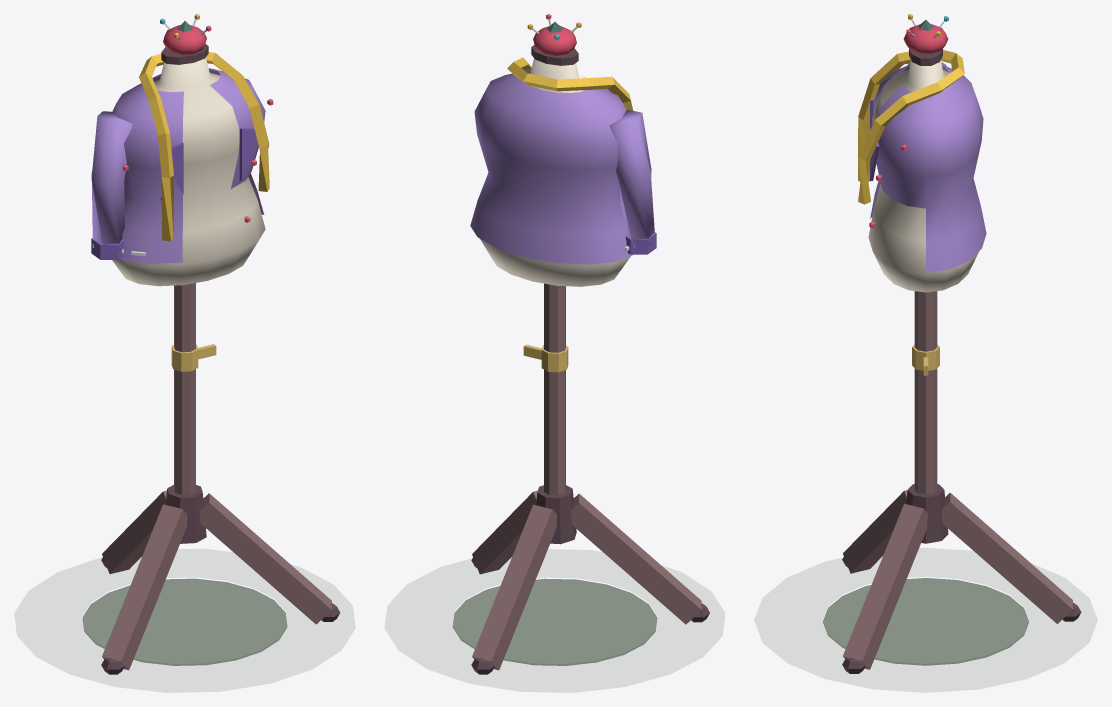
The model's file is dress_form.glb.
The picture shows the model from 3 angles, left to right: view 1: azimuth 30°, elevation 25°; view 2: azimuth 150°, elevation 25°; view 3: azimuth 270°, elevation 25°; orthographic projection.
Parts seen in each view (by area): view 1: dress_form; view 2: dress_form; view 3: dress_form.
Boxes of the visible parts, x1=… form: dress_form: x1=82, y1=14, x2=340, y2=674; dress_form: x1=452, y1=14, x2=709, y2=674; dress_form: x1=823, y1=14, x2=1081, y2=673.
Size of the model in its own units: 0.84 by 1.62 by 0.84.
